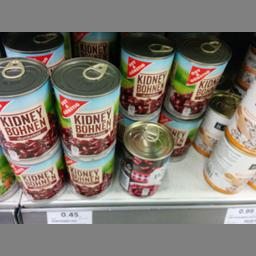beans: (49, 54, 122, 156), (0, 57, 55, 162), (170, 36, 228, 118), (119, 120, 175, 198), (118, 38, 172, 116)
